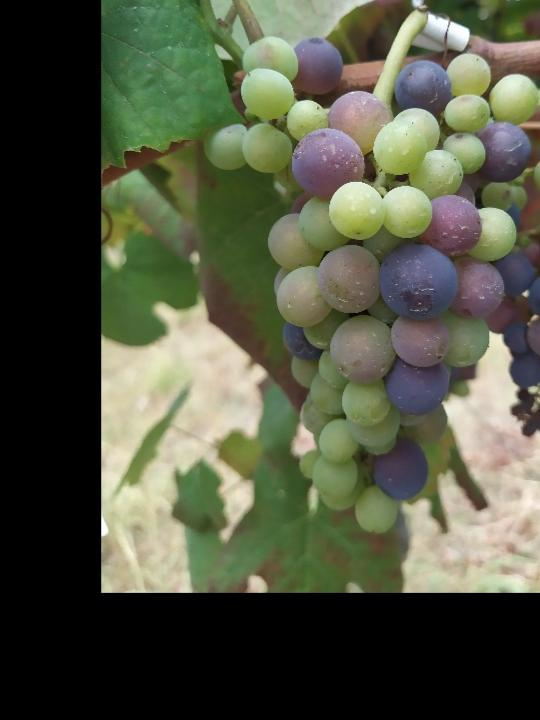grape: (200, 32, 540, 539)
